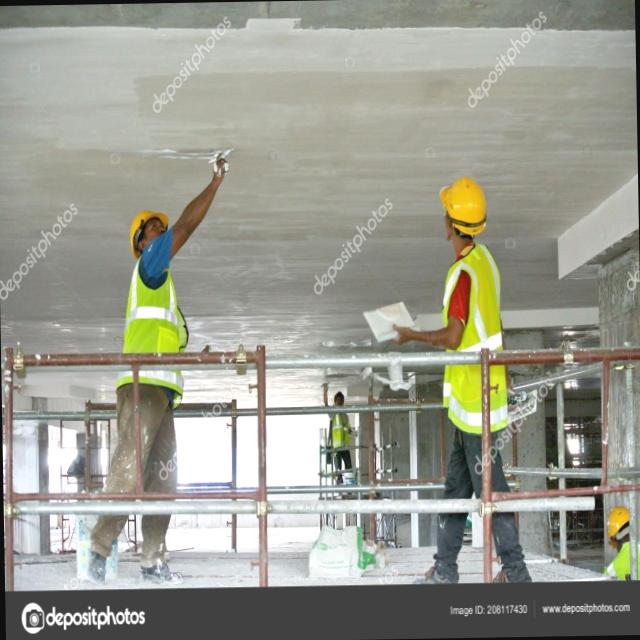helmet: (434, 176, 495, 241)
vest: (446, 254, 515, 438), (118, 264, 181, 393)
